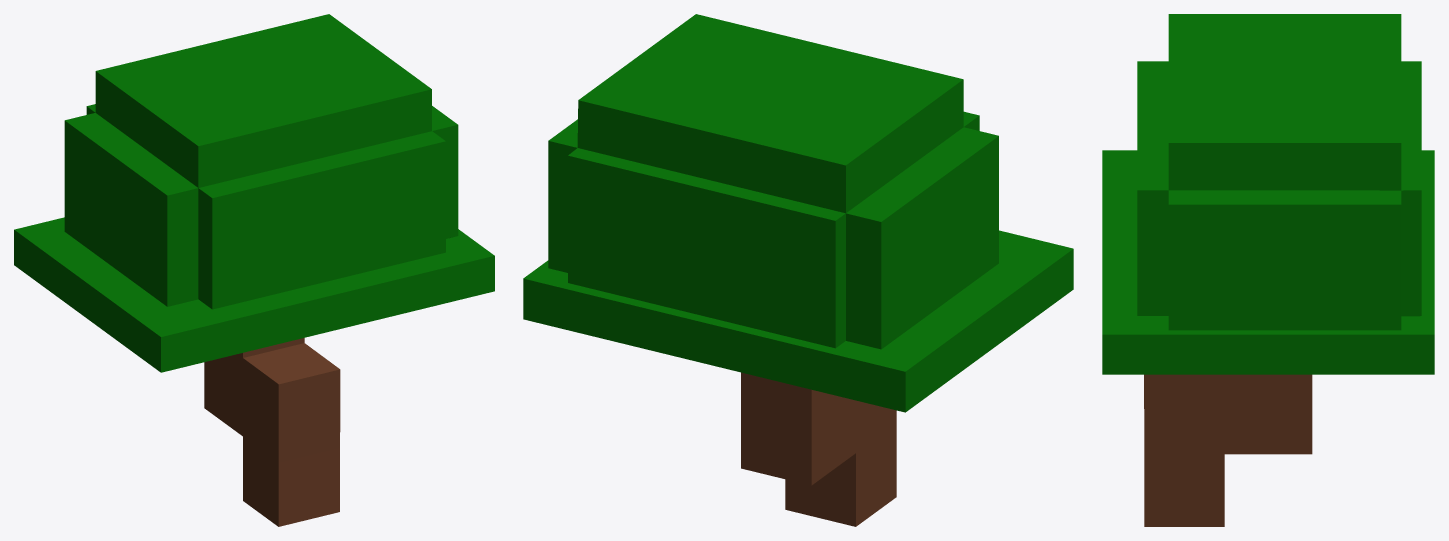
Rendered from Tree2.fbx.
The picture shows the model from 3 angles, left to right: view 1: azimuth 30°, elevation 25°; view 2: azimuth 150°, elevation 25°; view 3: azimuth 270°, elevation 25°; orthographic projection. The views are drawn at different scales.
Parts seen in each view (by area): view 1: pCube1; view 2: pCube1; view 3: pCube1.
Part boxes in pixels (x1,y1,x2,y2): pCube1: (14, 14, 494, 526); pCube1: (523, 14, 1073, 526); pCube1: (1102, 14, 1434, 526).
Size of the model in its own units: 5.43 by 6.05 by 4.14.
